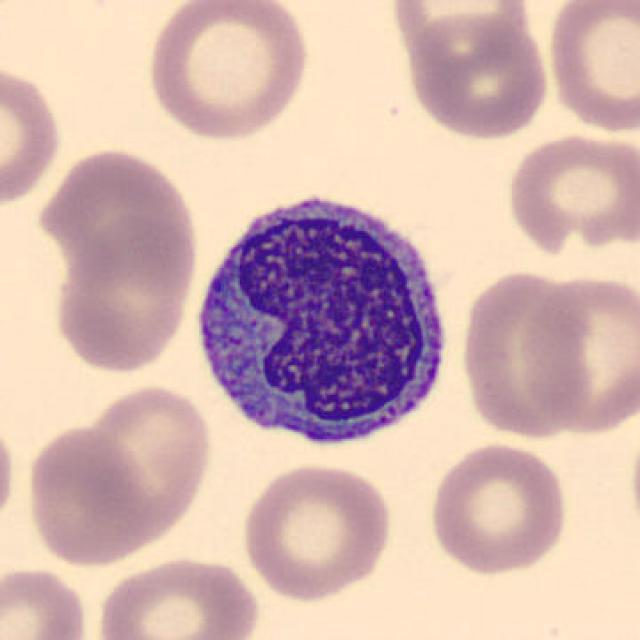Lymphocyte: (183, 176, 461, 460)
RBC: (66, 379, 215, 554), (455, 264, 596, 442), (48, 212, 199, 376), (142, 0, 315, 143), (32, 142, 201, 286), (236, 458, 394, 603), (400, 7, 553, 143), (518, 268, 636, 439), (425, 439, 571, 577), (21, 422, 151, 570), (502, 129, 638, 261), (91, 552, 263, 640), (542, 0, 640, 138), (0, 60, 66, 212), (385, 0, 535, 63), (0, 562, 92, 639), (0, 408, 20, 542)
